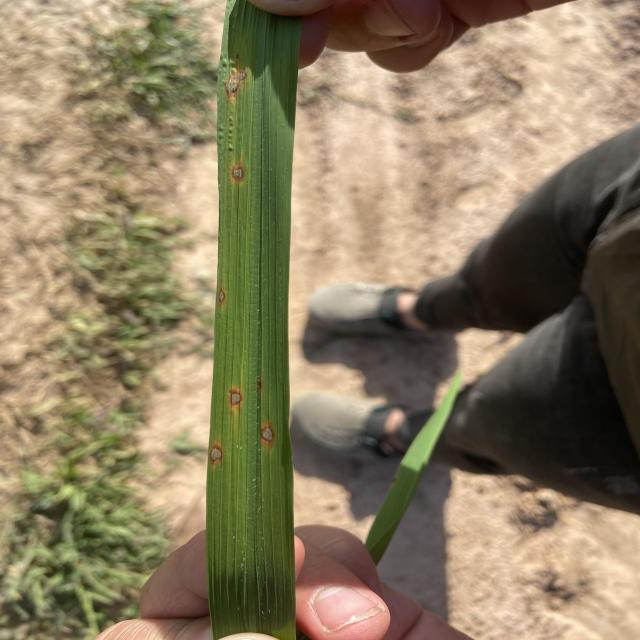Dao on: (227, 71, 246, 94), (261, 427, 274, 443), (231, 391, 242, 405), (211, 448, 222, 462), (233, 168, 243, 178), (218, 289, 225, 303)
